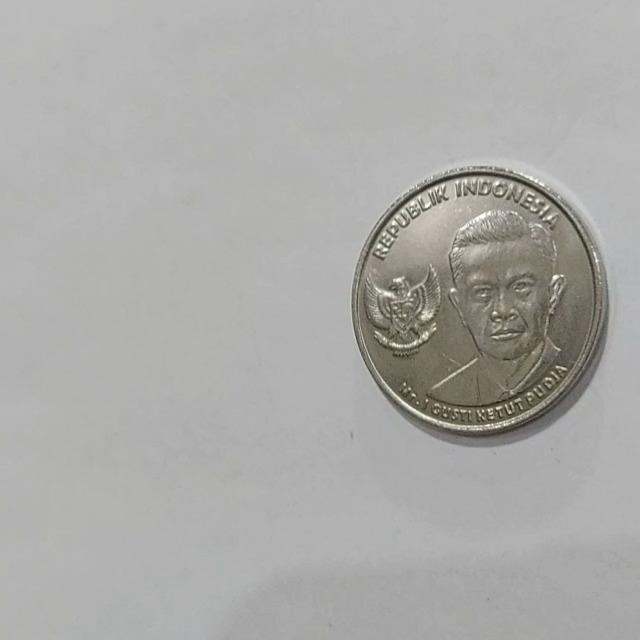Rp100: (351, 163, 609, 437)
